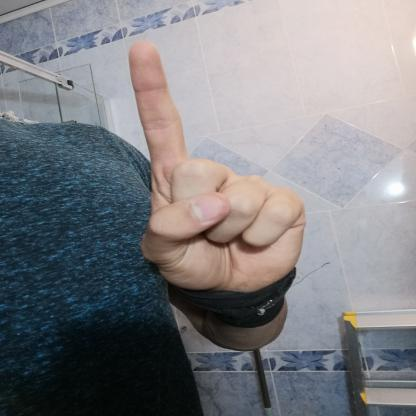BAA: (110, 26, 318, 311)
